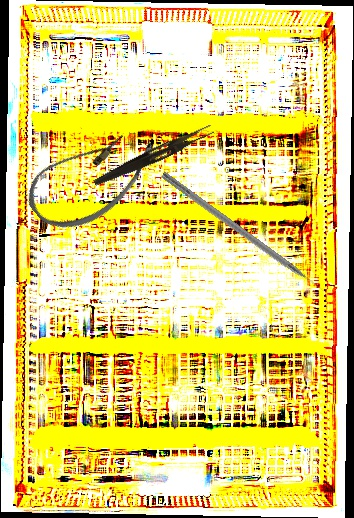Cannula: (16, 105, 167, 248)
Dressing Forceps: (92, 119, 215, 193)
Hook Surgical: (159, 171, 329, 298)
